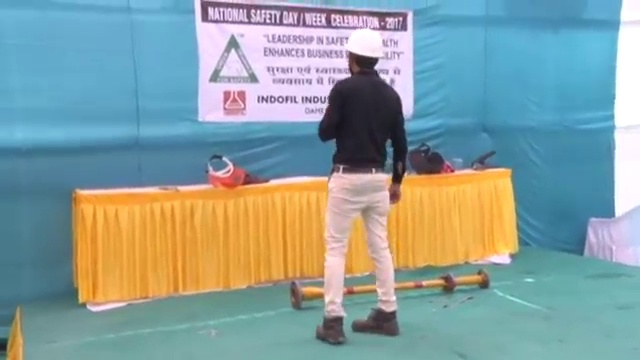helmet: (343, 27, 384, 60)
helmet_on: (341, 27, 385, 74)
person: (308, 27, 400, 345)
